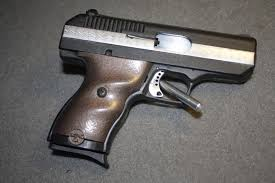gun: (47, 8, 258, 168)
